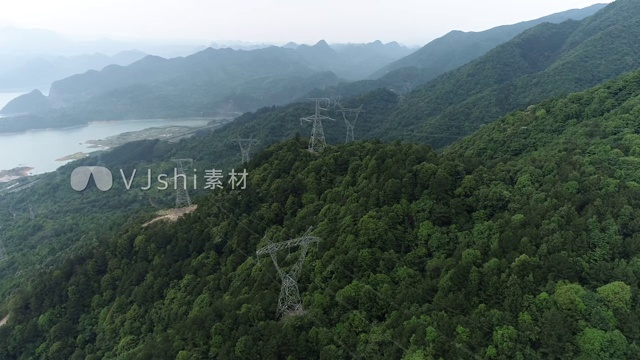tower_body: (246, 230, 333, 321), (298, 94, 329, 149), (337, 100, 364, 144), (232, 135, 256, 166)
tower_foot: (276, 295, 306, 317)
tower_head: (251, 234, 324, 286)
